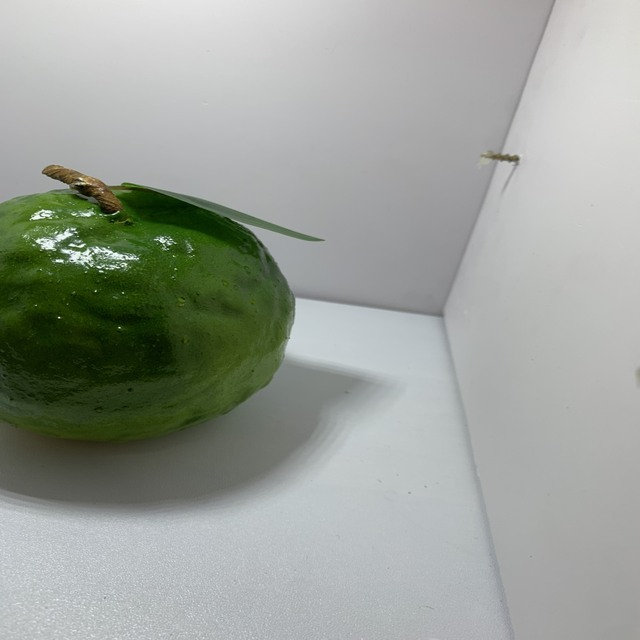Cam xanh: (0, 167, 304, 466)
